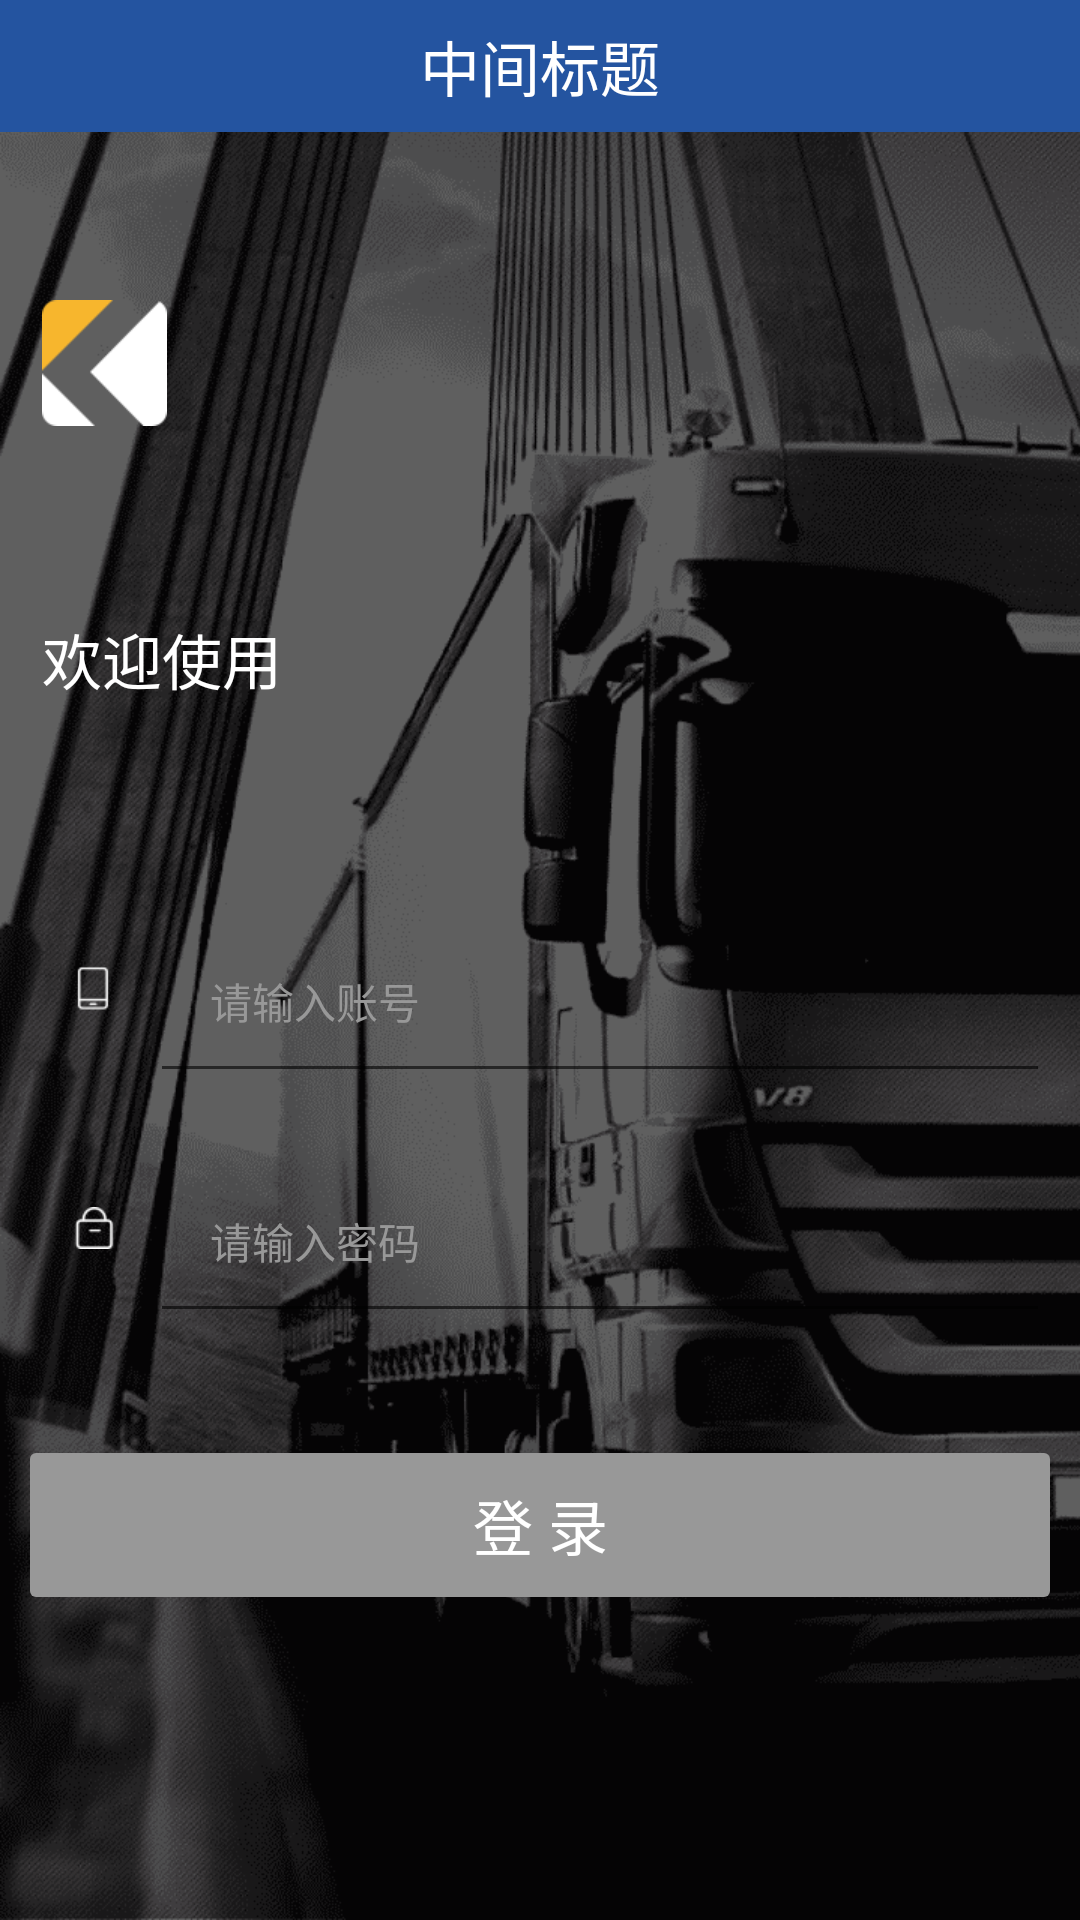

Icons on this 1080 × 1920 Android screen, each with its box as (x1, y1, x2, y2):
activity login account: (77, 966, 109, 1011)
activity login pas: (72, 1207, 116, 1249)
